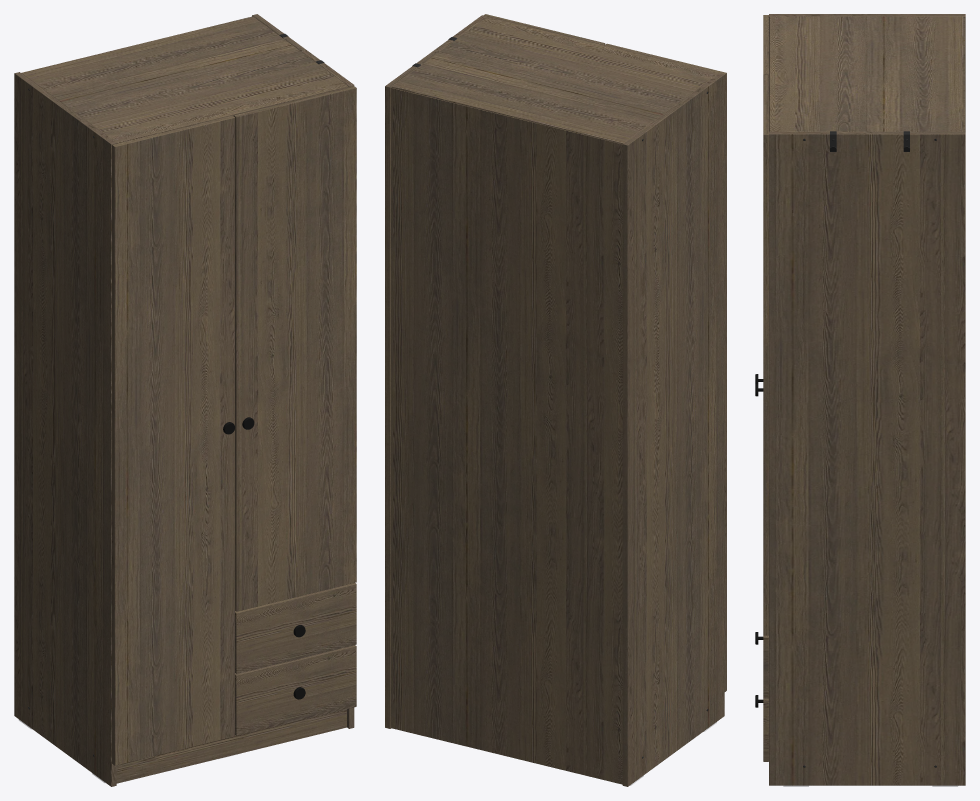
Rendered from 06 - BRUKSVARA - 2門2抽衣櫃衣櫥, 棕色, 79x57x201 公分 IKEA 線上購物.glb.
3 views of the same model, side by side, from view 1: azimuth 30°, elevation 25°; view 2: azimuth 150°, elevation 25°; view 3: azimuth 270°, elevation 25° (orthographic).
Visible parts, largest first — view 1: Mesh_0; view 2: Mesh_0; view 3: Mesh_0.
Part boxes in pixels (x1=…): Mesh_0: x1=14, y1=14, x2=356, y2=786; Mesh_0: x1=385, y1=14, x2=726, y2=786; Mesh_0: x1=755, y1=14, x2=965, y2=785.
Size of the model in its own units: 0.8204 by 2.01 by 0.5873.
Materials: 5 (2 with a texture image).
